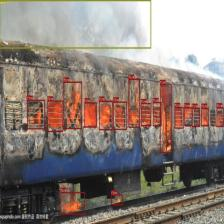fire: (63, 81, 82, 129), (160, 83, 171, 153), (128, 78, 140, 128), (60, 192, 85, 214), (27, 100, 45, 129), (47, 100, 63, 132), (98, 100, 112, 130), (113, 102, 127, 130), (84, 102, 96, 127), (140, 103, 152, 126), (152, 102, 162, 126), (174, 107, 184, 128), (216, 107, 224, 127), (184, 107, 192, 126), (192, 108, 200, 127), (201, 107, 209, 126), (110, 194, 122, 205)
smoke: (0, 0, 151, 48)
